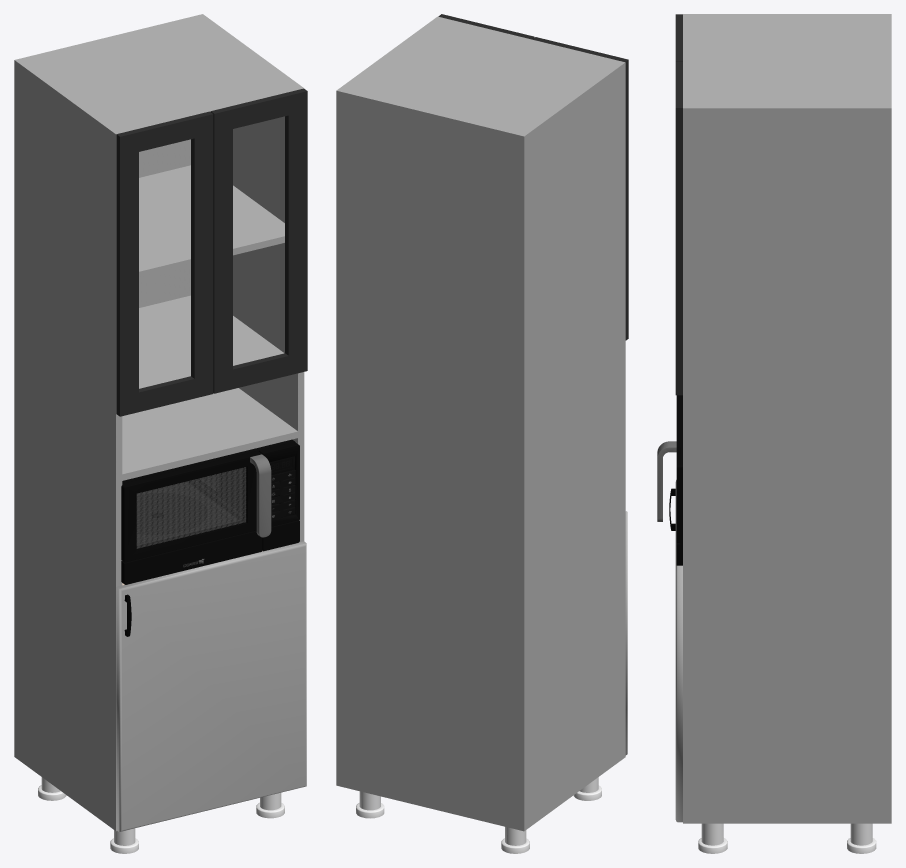
Rendered from lami60al.glb.
3 views of the same model, side by side, from view 1: azimuth 30°, elevation 25°; view 2: azimuth 150°, elevation 25°; view 3: azimuth 270°, elevation 25° (orthographic). The views are drawn at different scales.
Visible parts, largest first — view 1: Box483, باب, Box482, Box486, Box485, Box488, Obj3d66-517063-2-681, Obj3d66-517063-1-843, Obj3d66-517063-10-7, Box487, Obj3d66-517063-3-471, Obj3d66-517063-5-233 (+4 smaller); view 2: Box483, Box482, باب, Cylinder008, Cylinder007; view 3: Box483, Box486, باب, Obj3d66-517063-10-7, Cylinder008, Cylinder006, Obj3d66-517063-4-9.
Boxes of the visible parts, left/top/right/bottom form: Box483: left=14, top=14, right=304, bottom=831; باب: left=116, top=541, right=306, bottom=831; Box482: left=116, top=111, right=213, bottom=416; Box486: left=210, top=88, right=307, bottom=393; Box485: left=122, top=388, right=298, bottom=480; Box488: left=139, top=165, right=284, bottom=278; Obj3d66-517063-2-681: left=136, top=467, right=247, bottom=549; Obj3d66-517063-1-843: left=137, top=467, right=245, bottom=548; Obj3d66-517063-10-7: left=121, top=439, right=299, bottom=584; Box487: left=139, top=295, right=283, bottom=388; Obj3d66-517063-3-471: left=121, top=450, right=261, bottom=562; Obj3d66-517063-5-233: left=137, top=468, right=242, bottom=545; Box483: left=336, top=16, right=625, bottom=831; Box482: left=532, top=37, right=628, bottom=340; باب: left=625, top=511, right=627, bottom=755; Cylinder008: left=356, top=791, right=384, bottom=818; Cylinder007: left=501, top=827, right=529, bottom=853; Box483: left=683, top=14, right=891, bottom=823; Box486: left=675, top=61, right=682, bottom=395; باب: left=675, top=480, right=682, bottom=822; Obj3d66-517063-10-7: left=676, top=447, right=682, bottom=565; Cylinder008: left=847, top=823, right=876, bottom=853; Cylinder006: left=698, top=823, right=727, bottom=853; Obj3d66-517063-4-9: left=657, top=441, right=676, bottom=521.
Bounding box in the file's own units: 0.6 × 2.22 × 0.6291.
13 materials, 5 textured.
